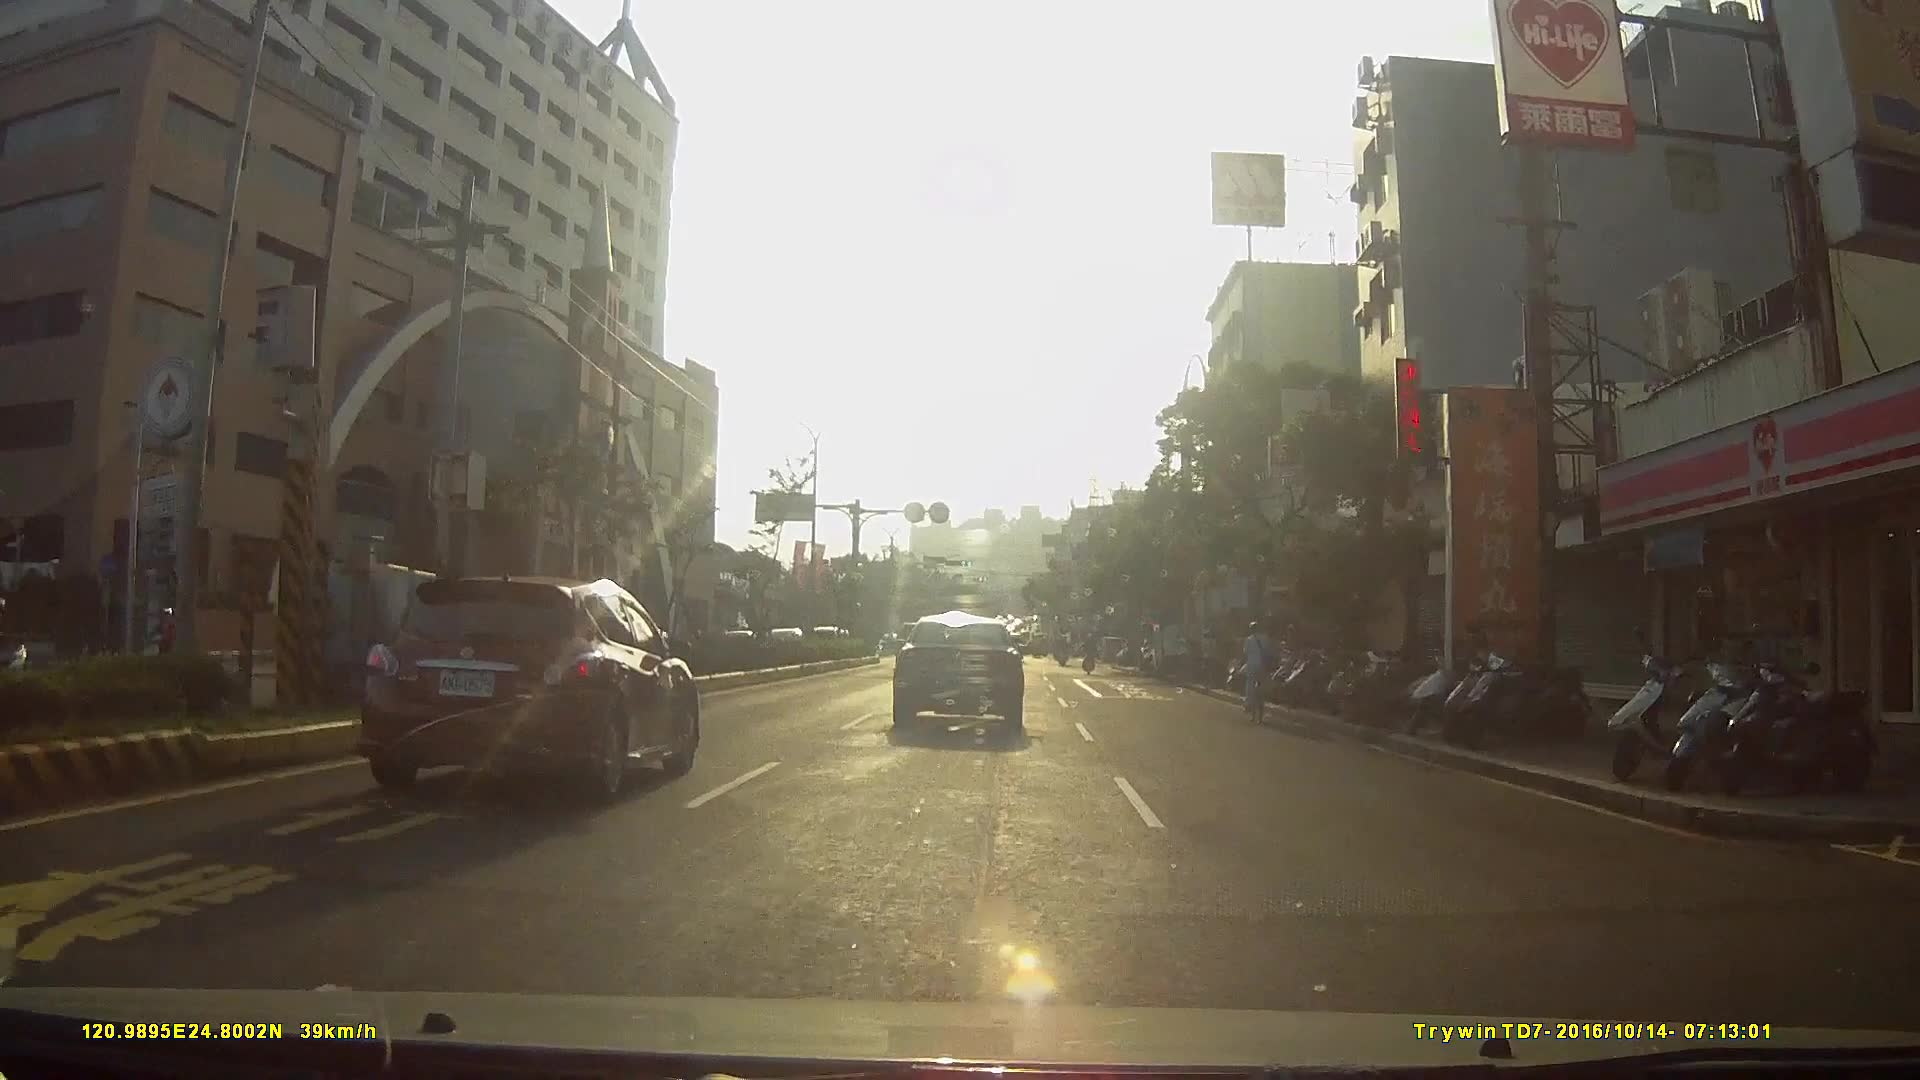rider: (136, 604, 199, 686), (1238, 621, 1280, 725)
vehicle: (357, 573, 713, 808), (887, 615, 1041, 749), (1147, 619, 1212, 683), (763, 607, 822, 662)
